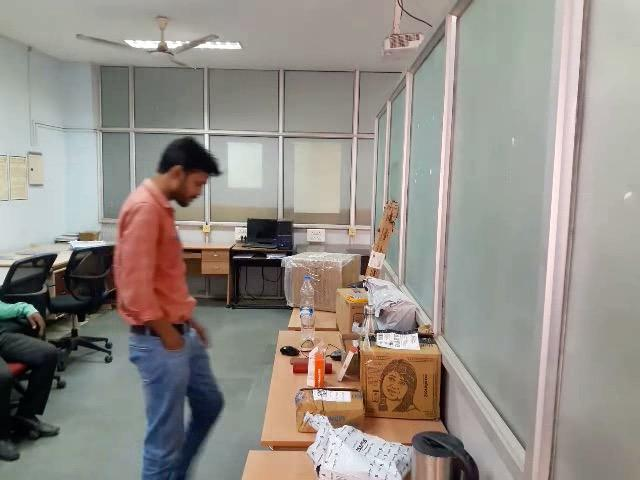shoplifting: (96, 271, 272, 402)
